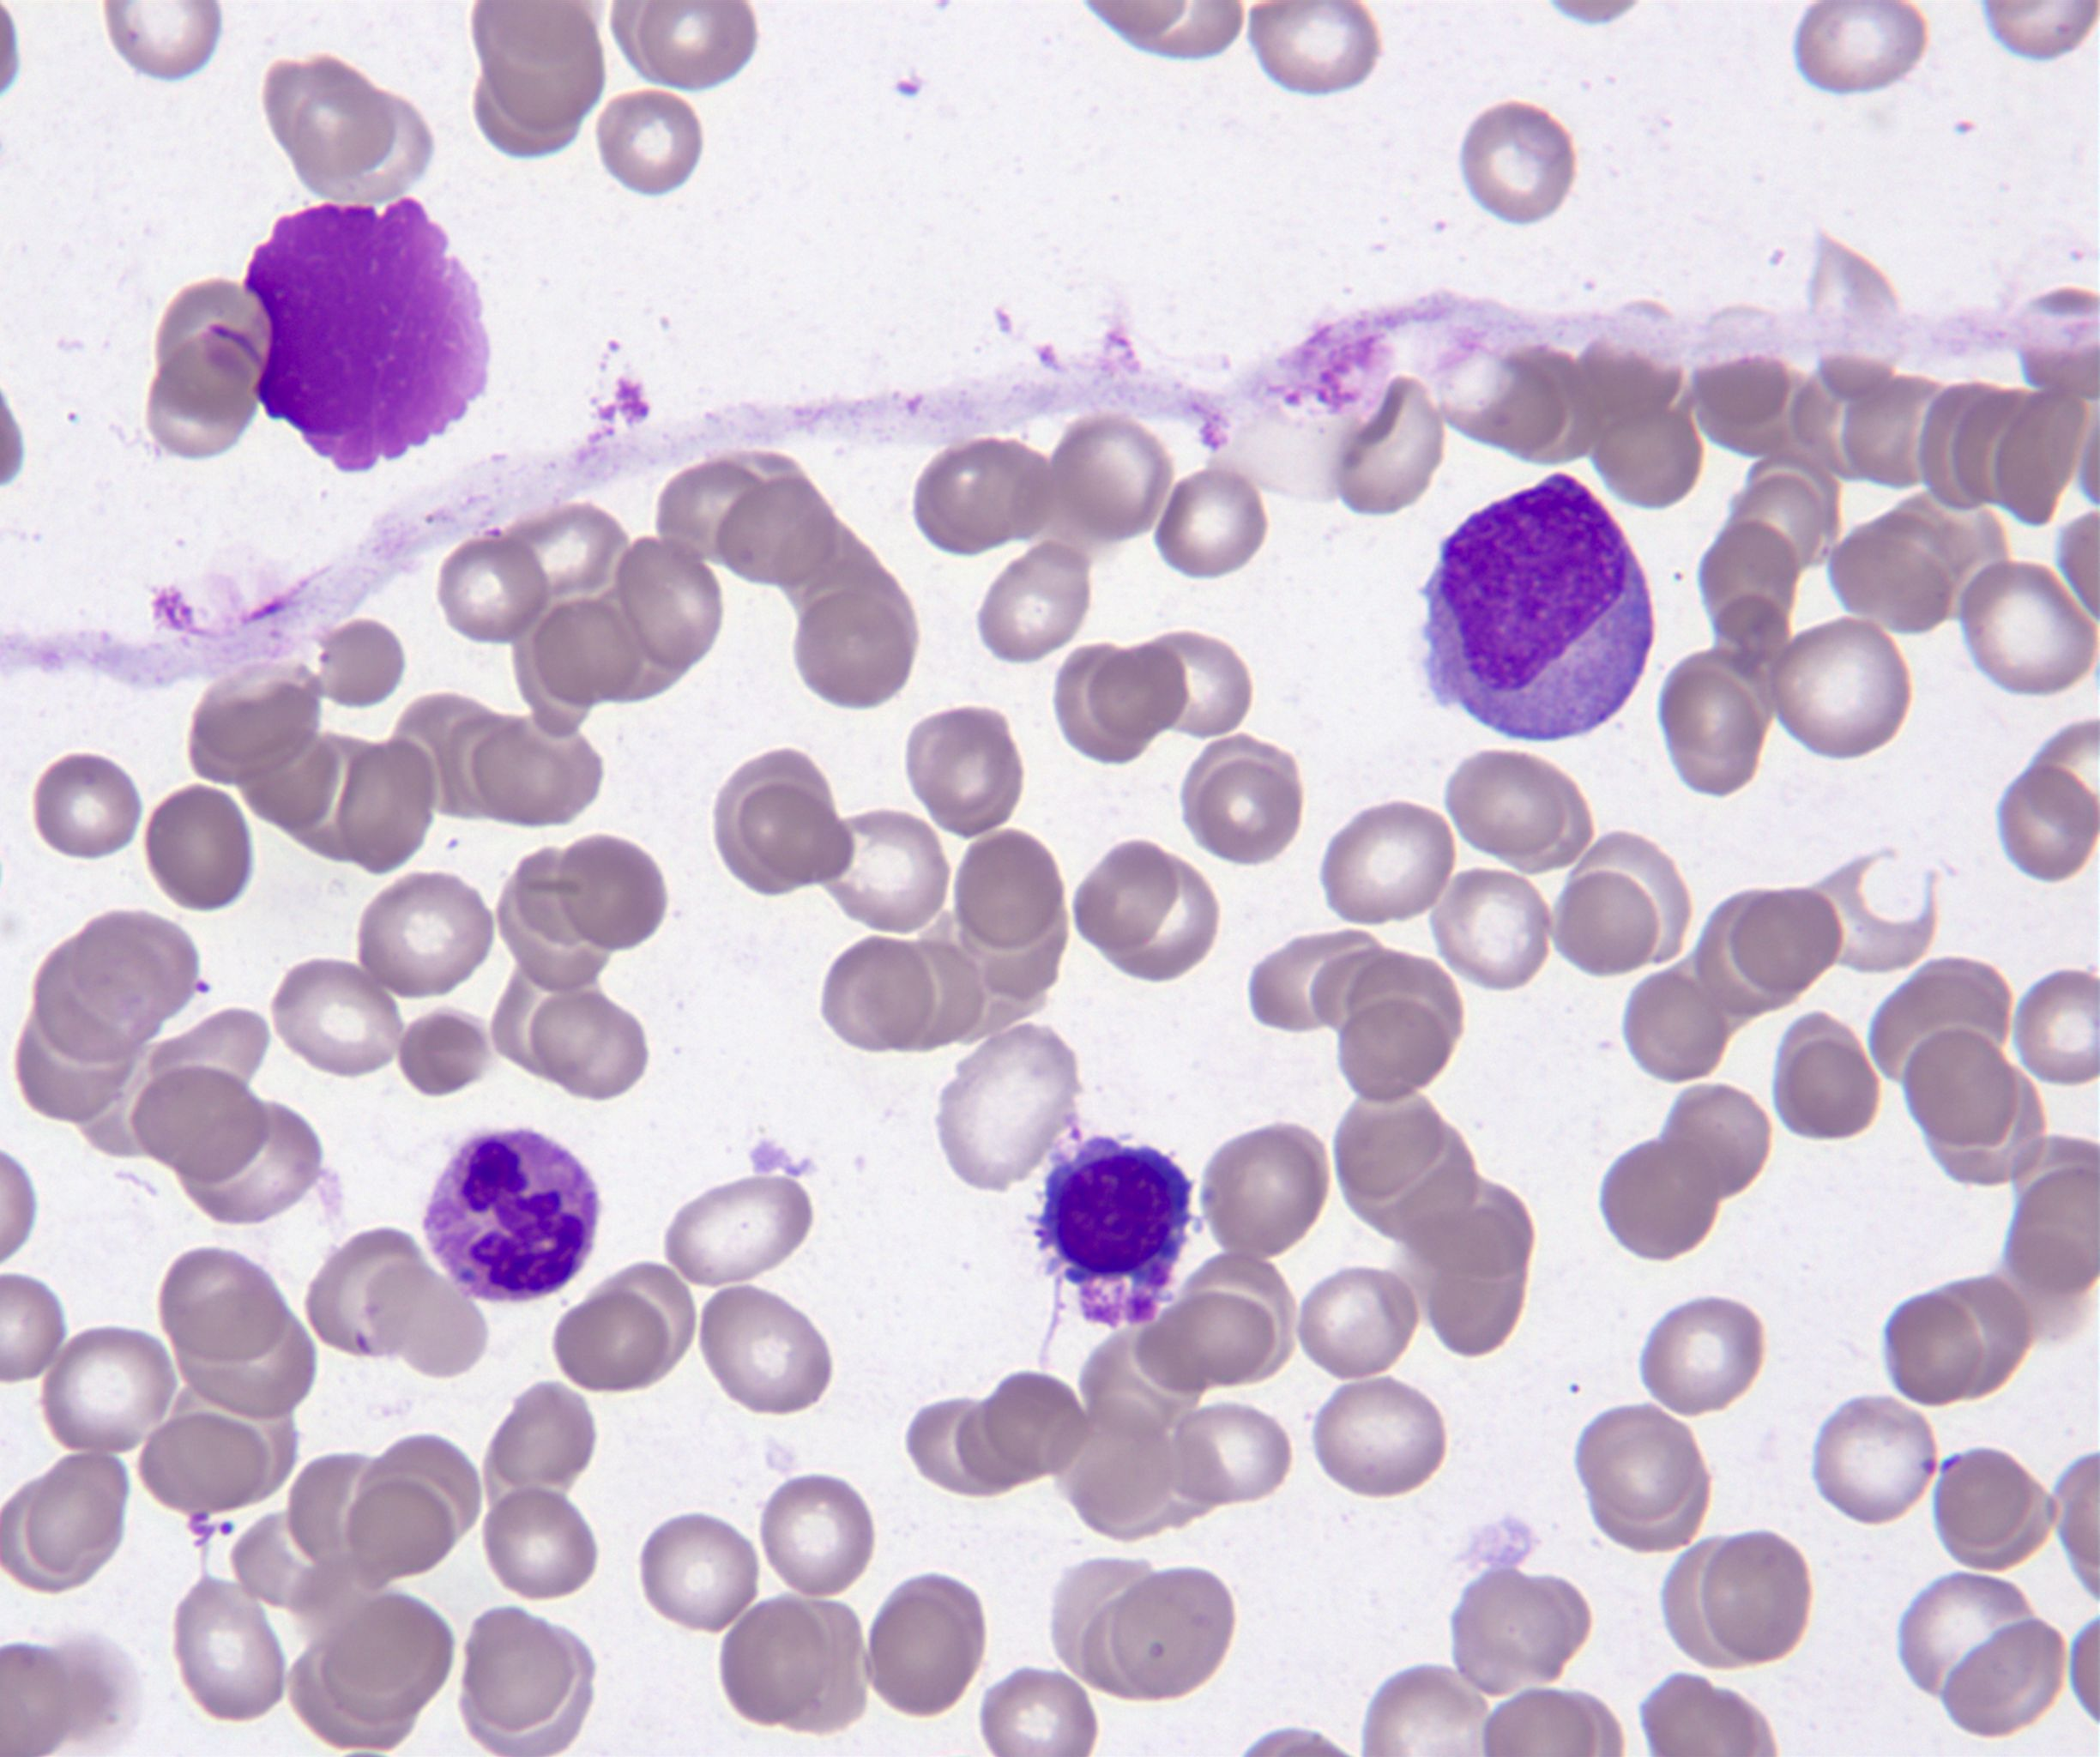23: (1040, 1139, 1191, 1326)
3: (1418, 471, 1653, 742)
6: (422, 1131, 600, 1302)
x: (204, 199, 490, 475)
